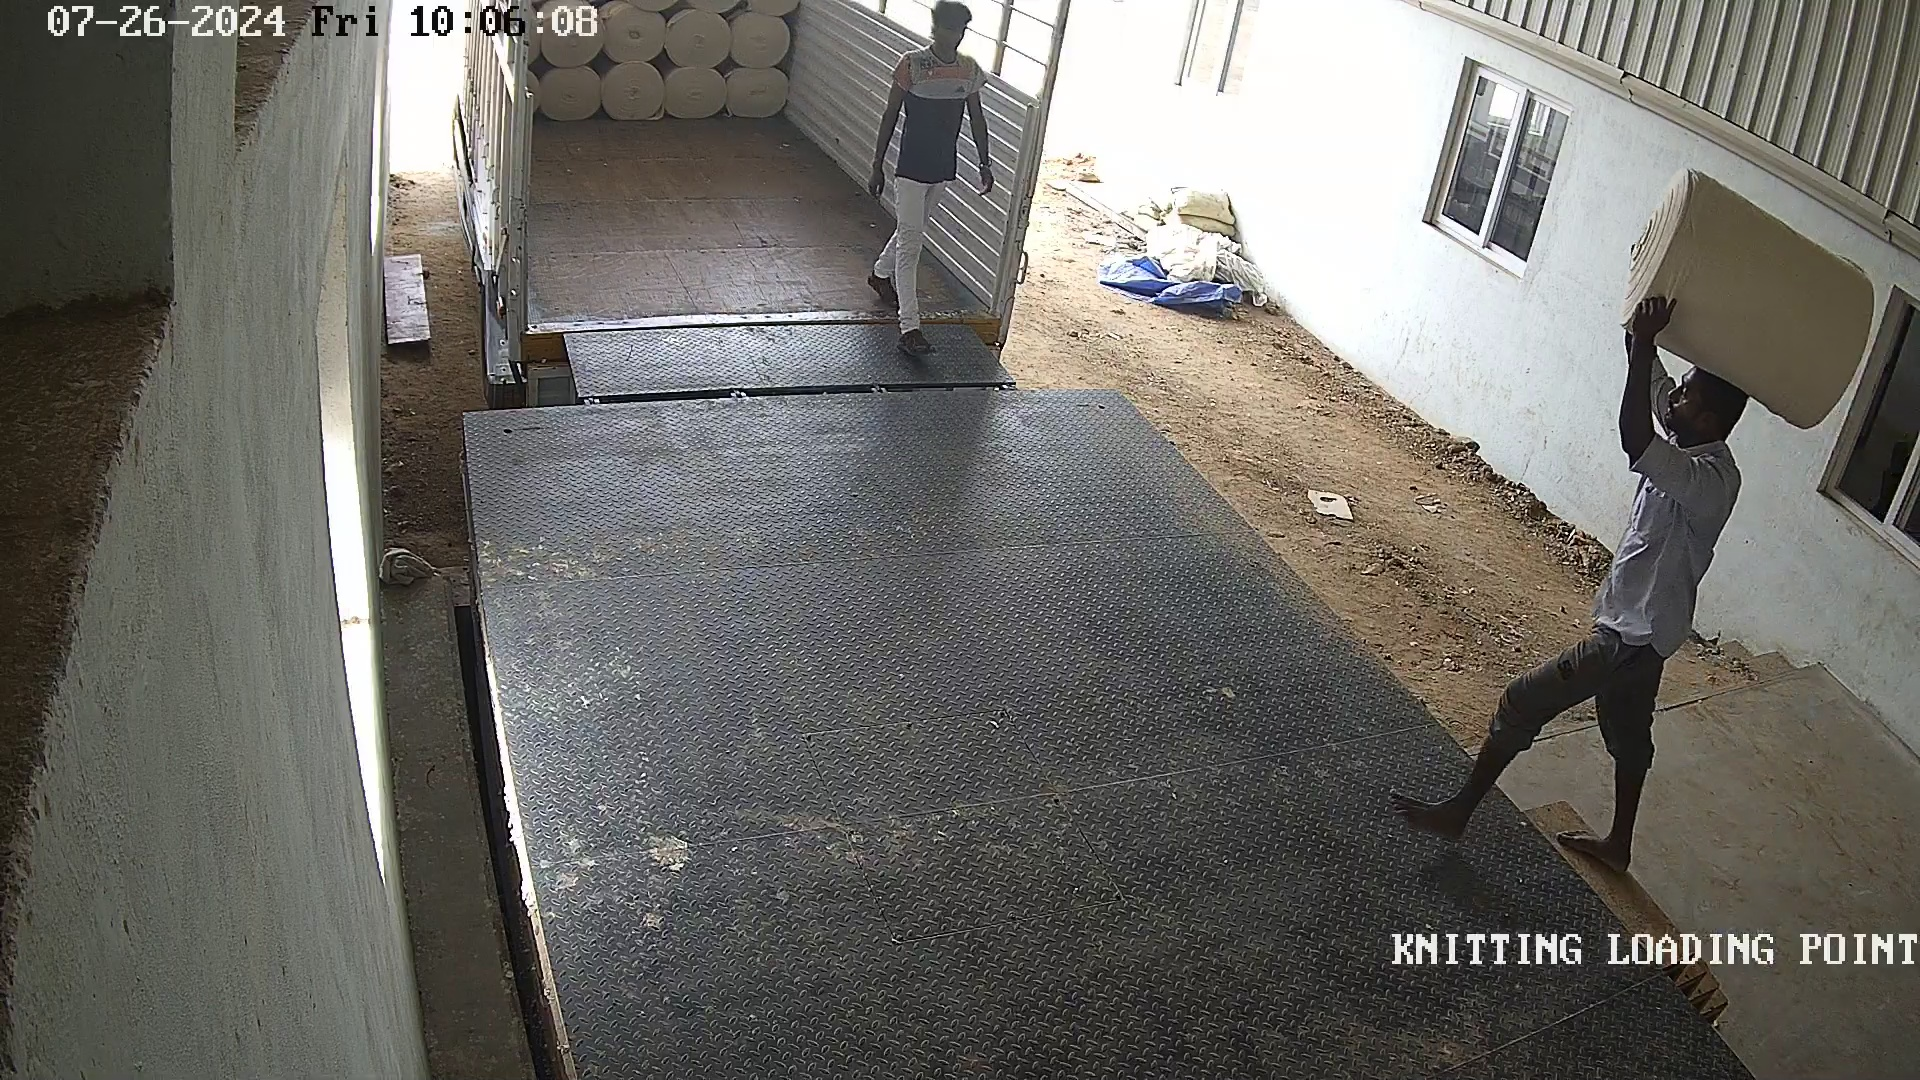bag: (1621, 165, 1880, 436)
